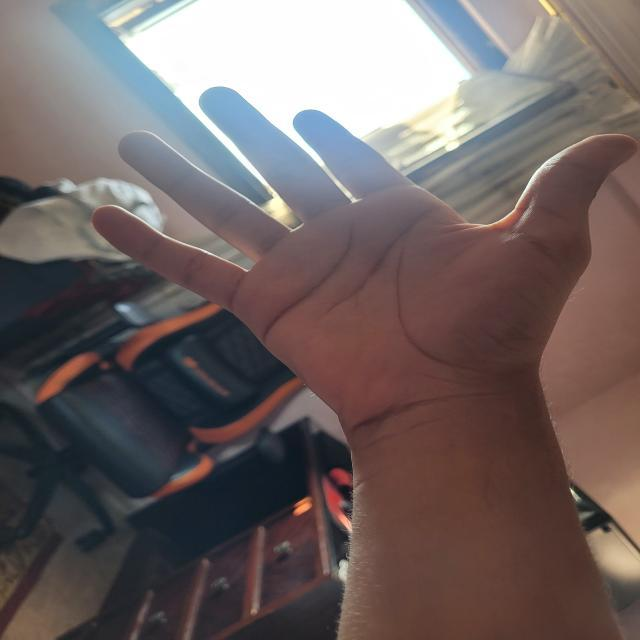Open Hand: (92, 86, 640, 422)
